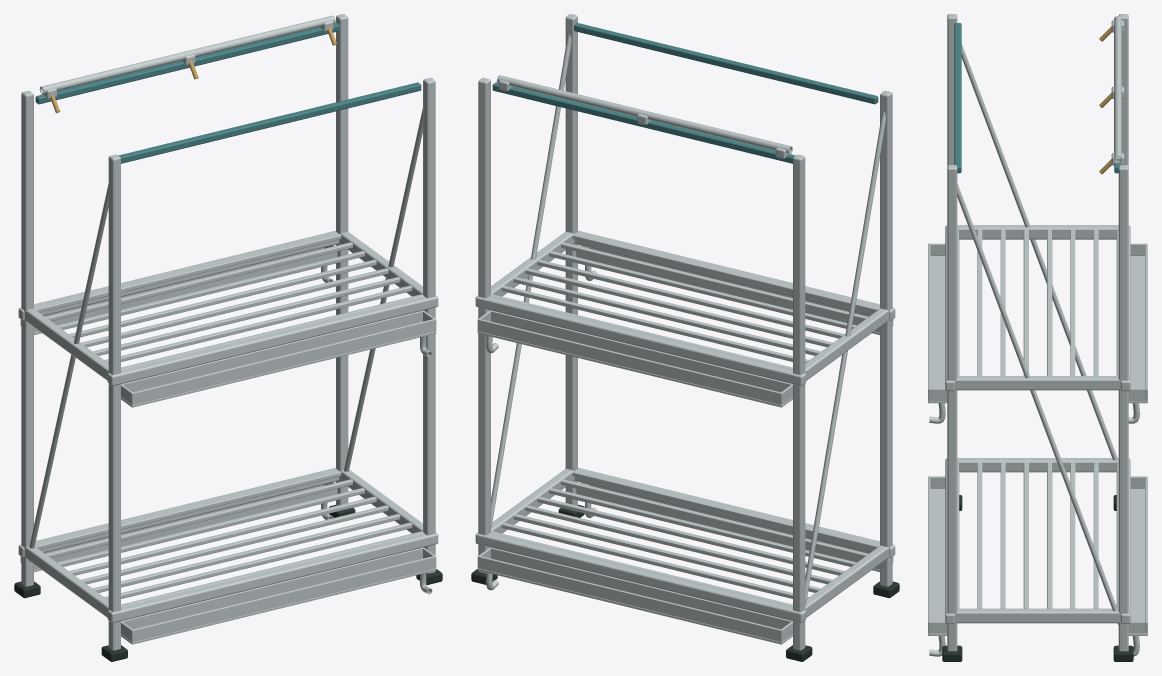
File: mushroom-farm-and-grow-rooms-fruiting-rack-9b92b351__30826.glb
The picture shows the model from 3 angles, left to right: view 1: azimuth 30°, elevation 25°; view 2: azimuth 150°, elevation 25°; view 3: azimuth 270°, elevation 25°; orthographic projection.
Visible parts, largest first — view 1: fruiting-rack; view 2: fruiting-rack; view 3: fruiting-rack.
Part boxes in pixels (left/top/right/bottom): fruiting-rack: left=14, top=14, right=442, bottom=661; fruiting-rack: left=471, top=14, right=899, bottom=661; fruiting-rack: left=928, top=14, right=1147, bottom=661.
Size of the model in its own units: 1.32 by 1.93 by 0.77.
